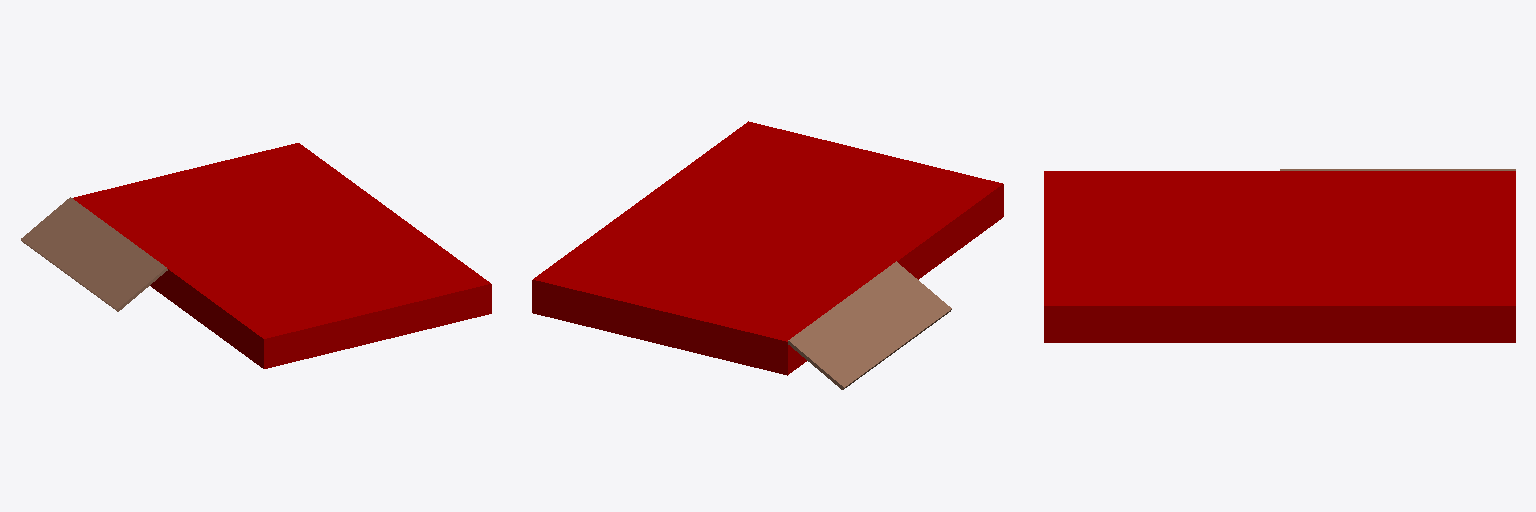
robot.urdf — land_with_downslope:
<?xml version="1.0"?>
<robot name="land_with_downslope">
  <!-- Materials -->
  <material name="brown">
    <color rgba="0.61176471 0.45882353 0.37254902 1"/>
  </material>
  <material name="red">
    <color rgba="0.7 0.0 0.0 1"/>
  </material>

  <!-- Base Link -->
  <link name="baseLink">
    <contact>
      <lateral_friction value="0.3"/>
      <rolling_friction value="0.0001"/>
      <inertia_scaling value="3.0"/>
    </contact>
    <inertial>
      <mass value="0.1"/>
      <inertia ixx="1" ixy="0" ixz="0" iyy="1" iyz="0" izz="1"/>
    </inertial>

    <!-- Main body: a single box with the same overall dimensions.
         The original two horizontal red plates were at z=0.001 and z=0.018
         with thickness 0.002. Thus the overall height is 0.019 and the
         center of that box (for visual/collision) is at z = 0.0095. -->
    <visual>
      <origin xyz="0 0 0.0095"/>
      <geometry>
        <box size="0.15 0.22 0.019"/>
      </geometry>
      <material name="red"/>
    </visual>
    <collision>
      <origin xyz="0 0 0.0095"/>
      <geometry>
        <box size="0.15 0.22 0.019"/>
      </geometry>
    </collision>

    <!-- Slope -->
    <visual>
      <origin xyz="-0.091454 0.055 0.0095" rpy="0 -0.5236 0"/>
      <geometry>
        <box size="0.038 0.11 0.002"/>
      </geometry>
      <material name="brown"/>
    </visual>
    <collision>
      <origin xyz="-0.091454 0.055 0.0095" rpy="0 -0.5236 0"/>
      <geometry>
        <box size="0.038 0.11 0.002"/>
      </geometry>
    </collision>
  </link>

  <!-- Slot links -->
  <link name="wolf_slot">
    <inertial>
      <mass value="0.001"/>
      <inertia ixx="0.001" ixy="0.0" ixz="0.0" iyy="0.001" iyz="0.0" izz="0.001"/>
    </inertial>
  </link>
  <link name="sheep_slot">
    <inertial>
      <mass value="0.001"/>
      <inertia ixx="0.001" ixy="0.0" ixz="0.0" iyy="0.001" iyz="0.0" izz="0.001"/>
    </inertial>
  </link>
  <link name="steve_slot">
    <inertial>
      <mass value="0.001"/>
      <inertia ixx="0.001" ixy="0.0" ixz="0.0" iyy="0.001" iyz="0.0" izz="0.001"/>
    </inertial>
  </link>
  <link name="grass_slot">
    <inertial>
      <mass value="0.001"/>
      <inertia ixx="0.001" ixy="0.0" ixz="0.0" iyy="0.001" iyz="0.0" izz="0.001"/>
    </inertial>
  </link>

  <!-- Slot joints -->
  <joint name="wolf_slot_joint" type="fixed">
    <parent link="baseLink"/>
    <child link="wolf_slot"/>
    <origin xyz="0.02 -0.02 0.02"/>
  </joint>
  <joint name="sheep_slot_joint" type="fixed">
    <parent link="baseLink"/>
    <child link="sheep_slot"/>
    <origin xyz="-0.02 0.02 0.02"/>
  </joint>
  <joint name="steve_slot_joint" type="fixed">
    <parent link="baseLink"/>
    <child link="steve_slot"/>
    <origin xyz="-0.02 -0.02 0.02"/>
  </joint>
  <joint name="grass_slot_joint" type="fixed">
    <parent link="baseLink"/>
    <child link="grass_slot"/>
    <origin xyz="0.02 0.02 0.02"/>
  </joint>
</robot>

--- Facts derived from the render (not from the file) ---
3 views of the same robot in one strip: view 1: azimuth 30°, elevation 25°; view 2: azimuth 150°, elevation 25°; view 3: azimuth 270°, elevation 25° (orthographic).
Robot: land_with_downslope — 5 links, 4 joints (4 fixed); root link baseLink; default pose: every joint at zero.
Visible links, largest first — view 1: baseLink; view 2: baseLink; view 3: baseLink.
Link boxes in pixels (x1,y1,x2,y2): baseLink: (21,143,491,368); baseLink: (532,121,1003,389); baseLink: (1044,169,1515,342).
Bounding box of the posed robot: 0.1834 × 0.22 × 0.0207 m (x, y, z).
Geometry: primitives only (box / cylinder / sphere), no mesh files.
